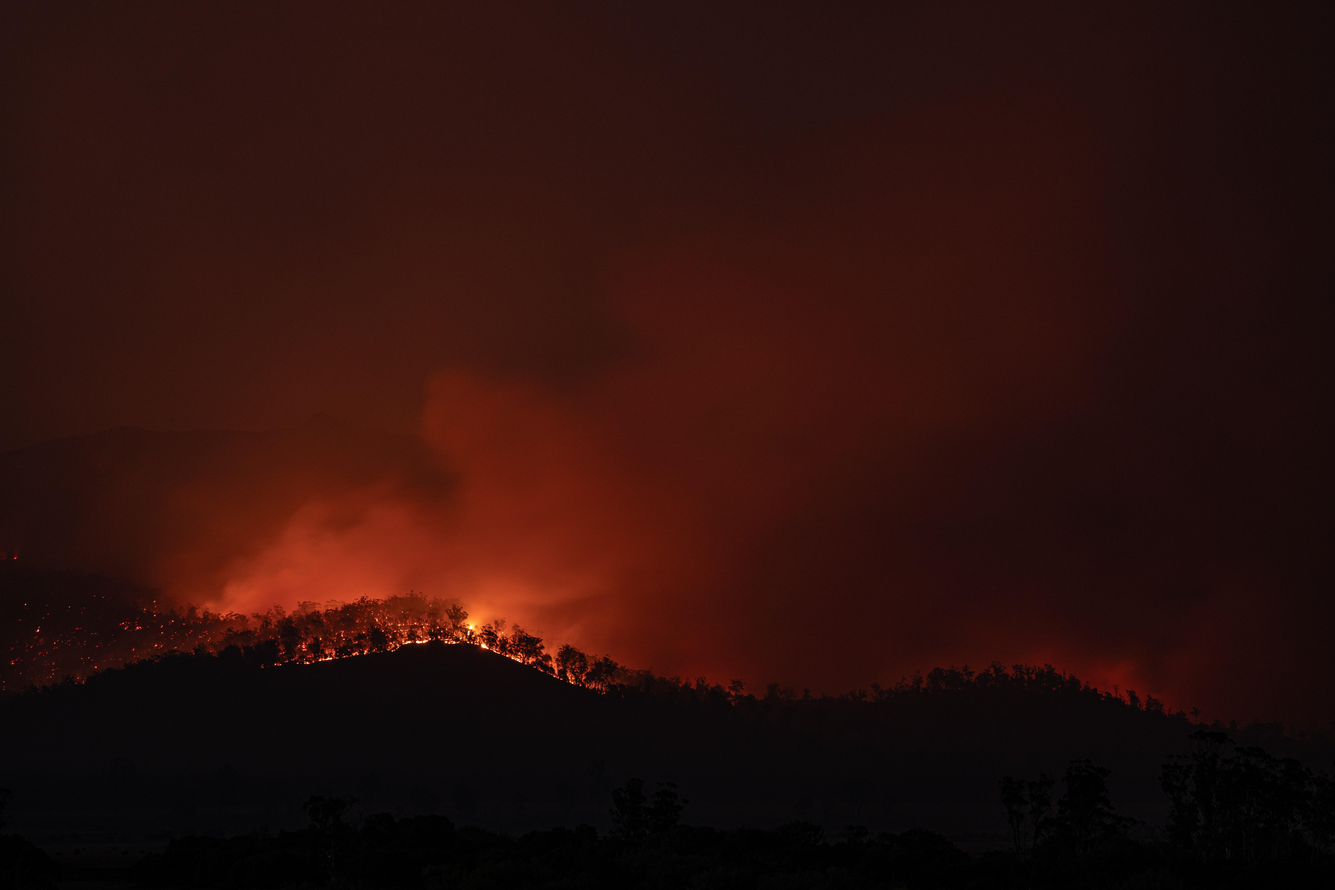fire: (17, 522, 621, 699), (32, 558, 370, 679), (443, 605, 500, 664)
